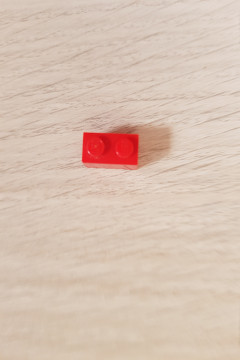1x2 red: (76, 128, 144, 169)
